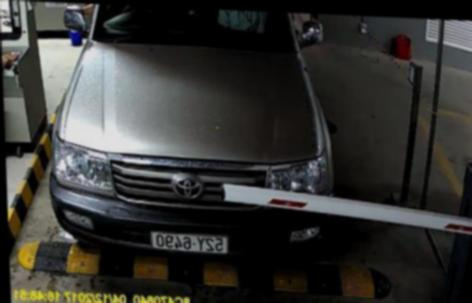License_Plate: (146, 227, 230, 255)
